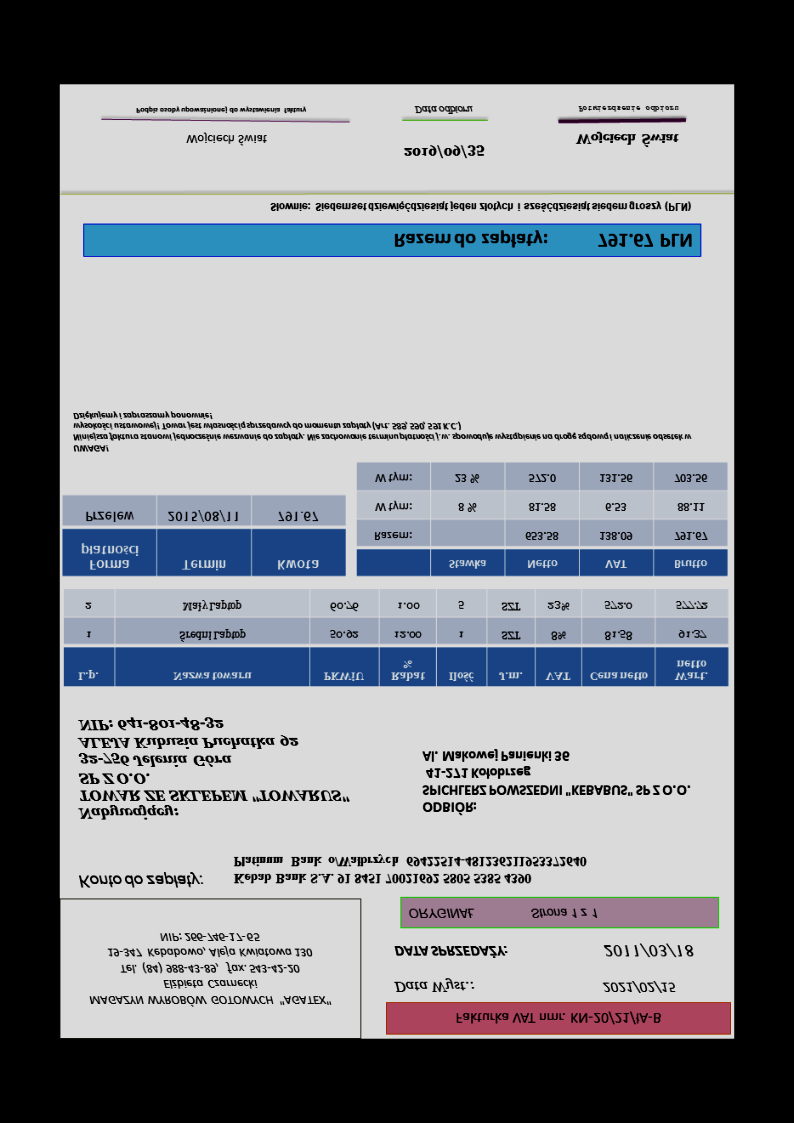Table: (61, 587, 729, 690), (354, 460, 729, 576), (61, 492, 347, 578)
TextBox: (76, 713, 350, 822), (71, 410, 694, 456), (85, 930, 336, 1007), (419, 748, 696, 817), (230, 851, 588, 889), (265, 199, 694, 217), (388, 229, 694, 253), (451, 1010, 665, 1028), (406, 904, 604, 923), (73, 872, 206, 892), (391, 940, 508, 961), (570, 129, 683, 150), (133, 105, 310, 117), (601, 942, 696, 962), (602, 977, 677, 1000), (181, 131, 269, 150), (400, 143, 488, 162), (391, 978, 479, 996), (575, 103, 681, 116), (412, 103, 474, 119)
